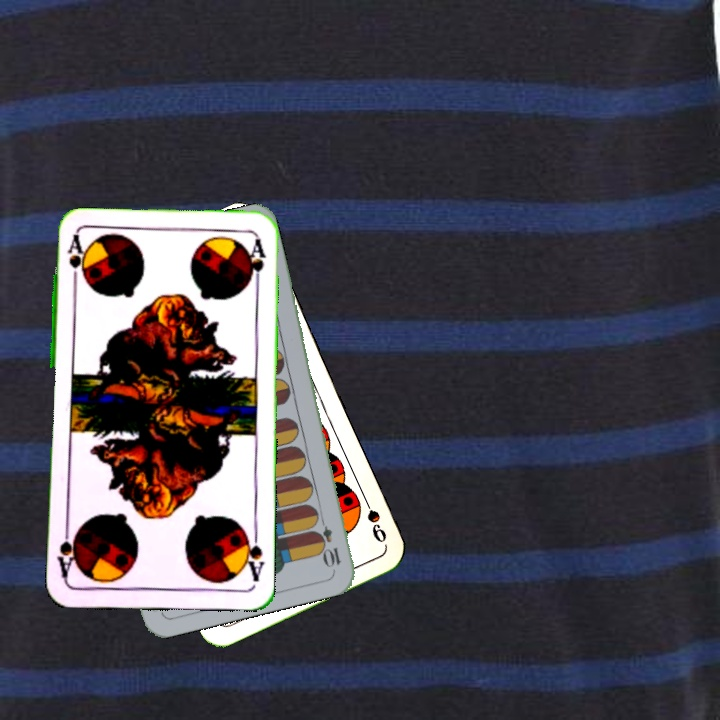E10: (314, 511, 344, 570)
S9: (358, 490, 389, 546)
SA: (239, 525, 266, 584), (64, 232, 85, 292)
